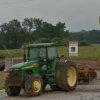Tractor: (4, 35, 81, 100)
